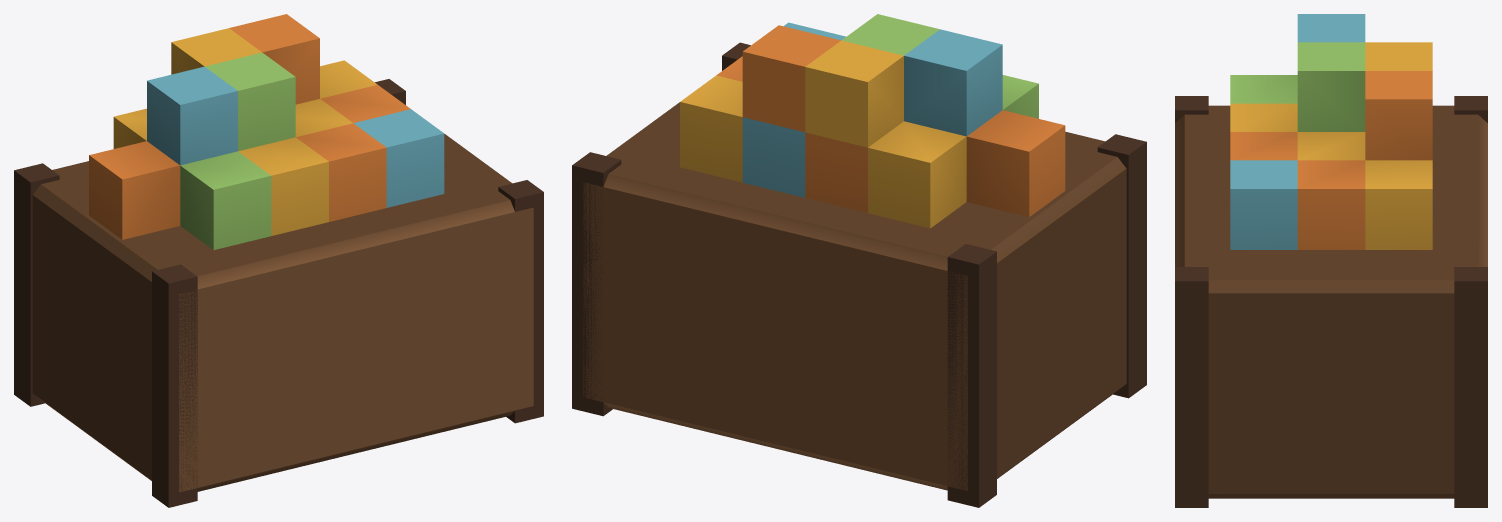
Rendered from cube_crate.glb.
3 renders of one model, left to right at view 1: azimuth 30°, elevation 25°; view 2: azimuth 150°, elevation 25°; view 3: azimuth 270°, elevation 25°, orthographic. The views are drawn at different scales.
Parts seen in each view (by area): view 1: cube_crate; view 2: cube_crate; view 3: cube_crate.
Part boxes in pixels (<box>): cube_crate: <box>14,14,543,507</box>; cube_crate: <box>572,14,1146,507</box>; cube_crate: <box>1175,14,1487,507</box>.
Size of the model in its own units: 0.91 by 0.79 by 0.65.
